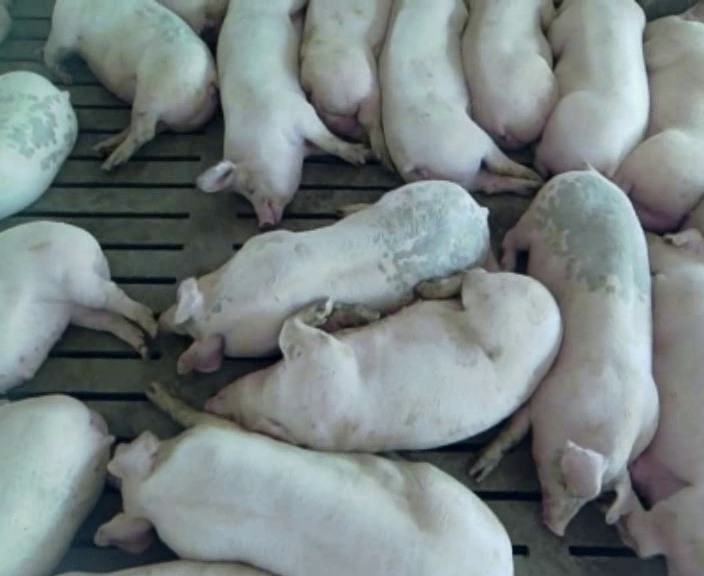pig: (97, 384, 512, 573), (206, 247, 561, 451), (471, 170, 657, 534), (160, 181, 489, 371), (197, 2, 367, 227), (379, 2, 539, 193), (619, 229, 703, 574), (44, 2, 216, 169), (0, 221, 156, 392), (613, 1, 703, 230), (0, 395, 113, 574), (535, 2, 648, 176), (300, 1, 392, 169), (461, 2, 557, 148), (0, 71, 77, 218), (161, 0, 227, 46)
